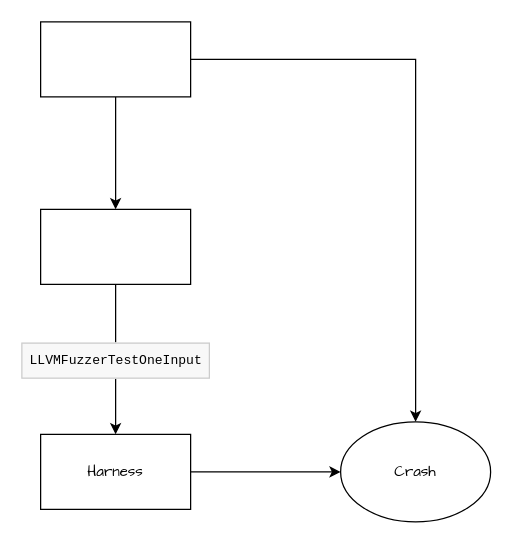
Image size: 513x544. Some labels were removed from this diagram. Each missing label, with the box of its shape:
Function: (39, 208, 191, 284)
Program: (39, 21, 191, 97)
